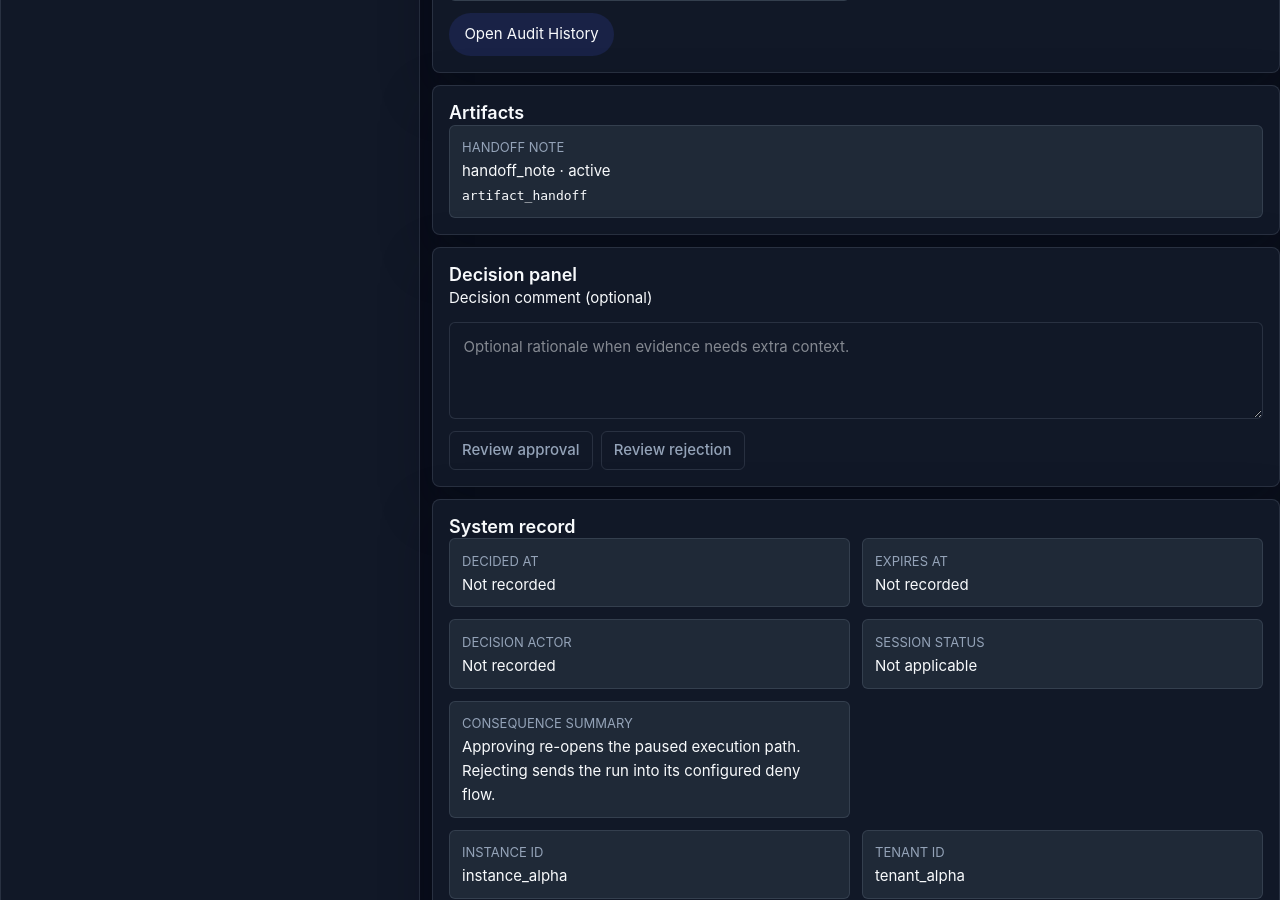
Scenario: approvals page workflow › records approval decisions without requiring a comment
The image size is (1280, 900).
(page scrolled)
Click the button "Review approval": (521, 450) [449, 431, 593, 470]
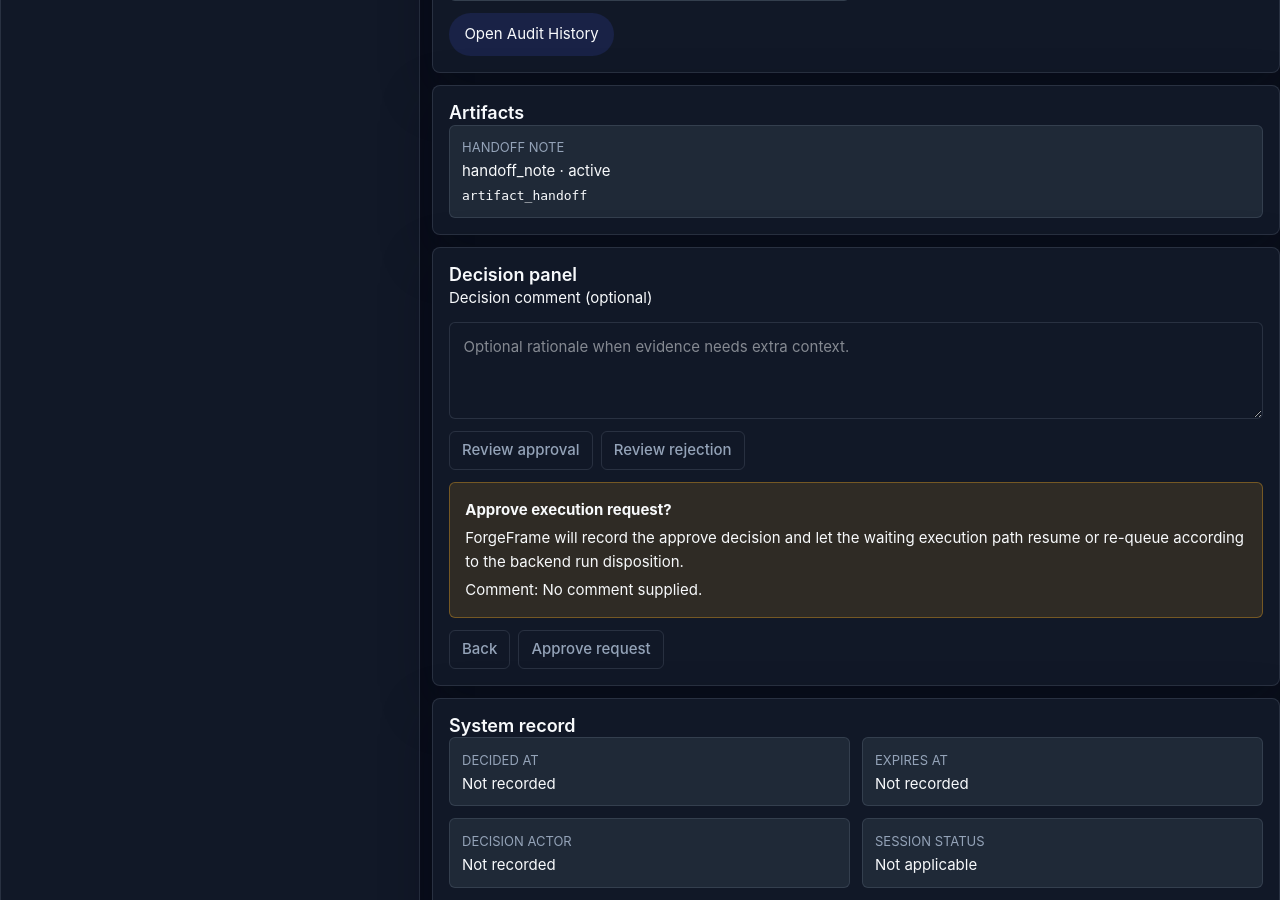
Expected: the button "Approve request" is shown
Click the button "Approve request": (591, 649) [518, 630, 664, 669]
(page scrolled)
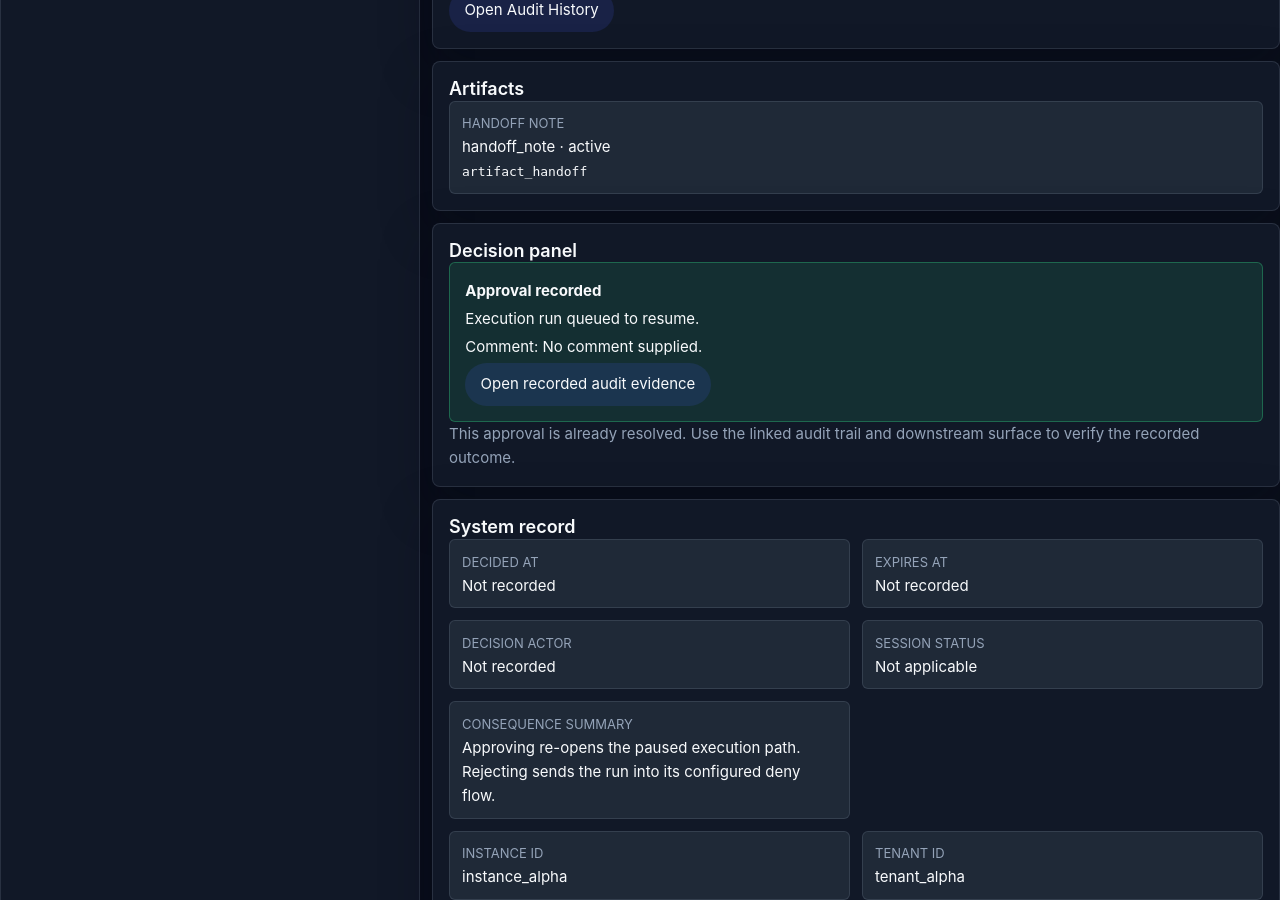
Expected: the text "No comment supplied." is shown, [542, 337, 702, 356]
Expected: the text "Approval recorded" is shown, [465, 281, 602, 300]
